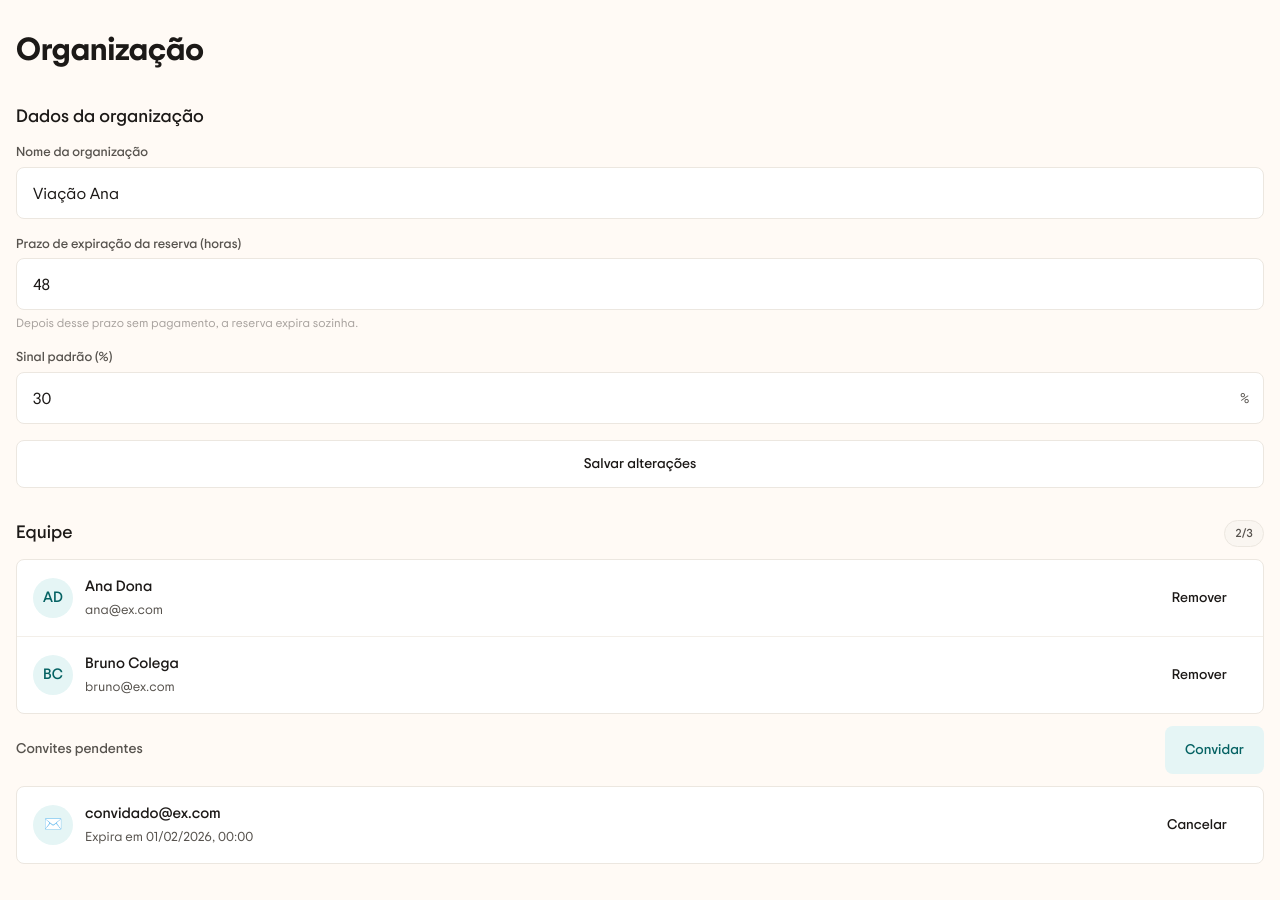
Test: OrganizacaoPage › remove um membro com sucesso
expect the text "Bruno Colega" is shown: met, box [85,656,179,671]
Click the button with aria-label "Remover Bruno Colega".
click(1199, 675)  # box [1152,651,1247,699]
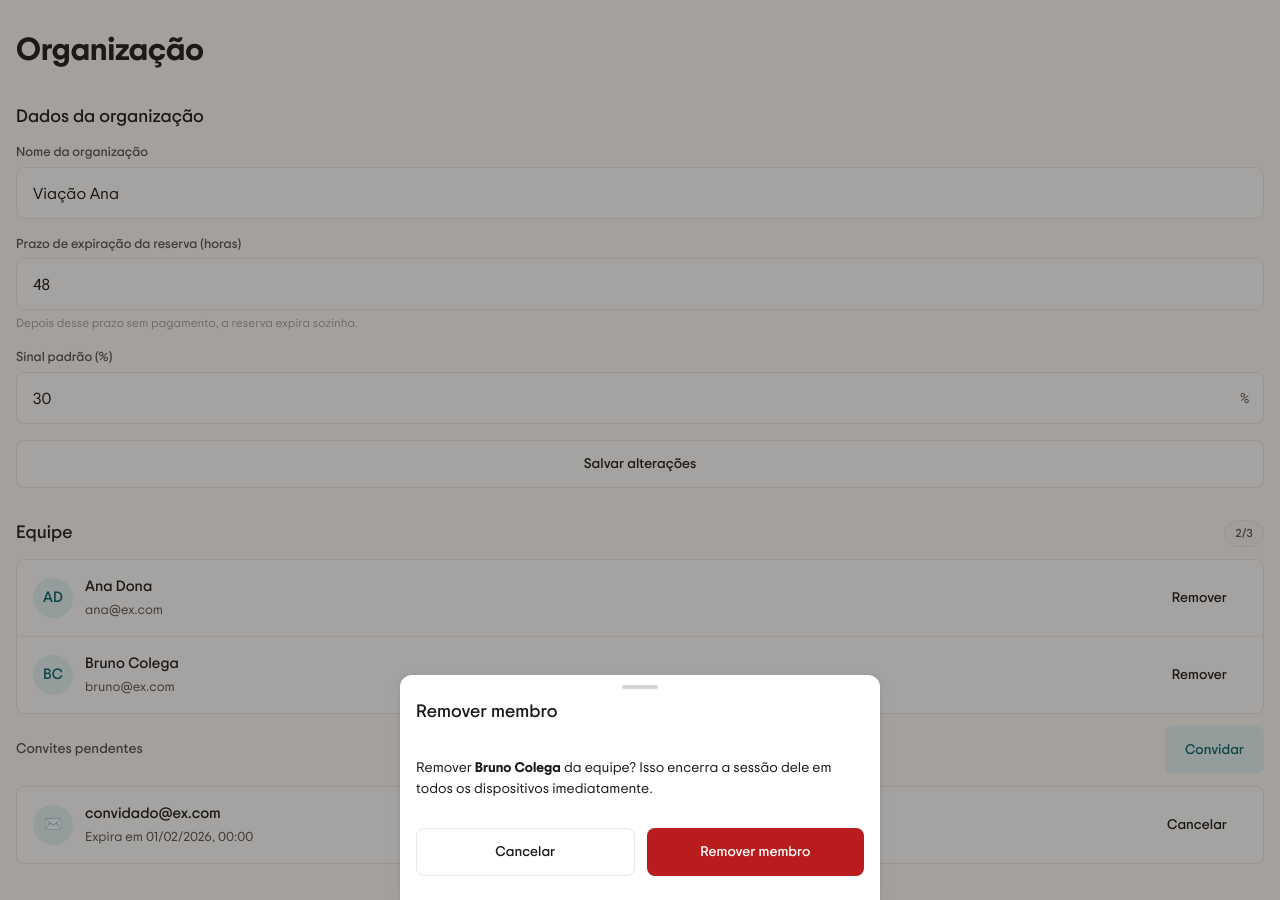
Click the button "Remover membro".
click(755, 852)  # box [647,828,864,876]
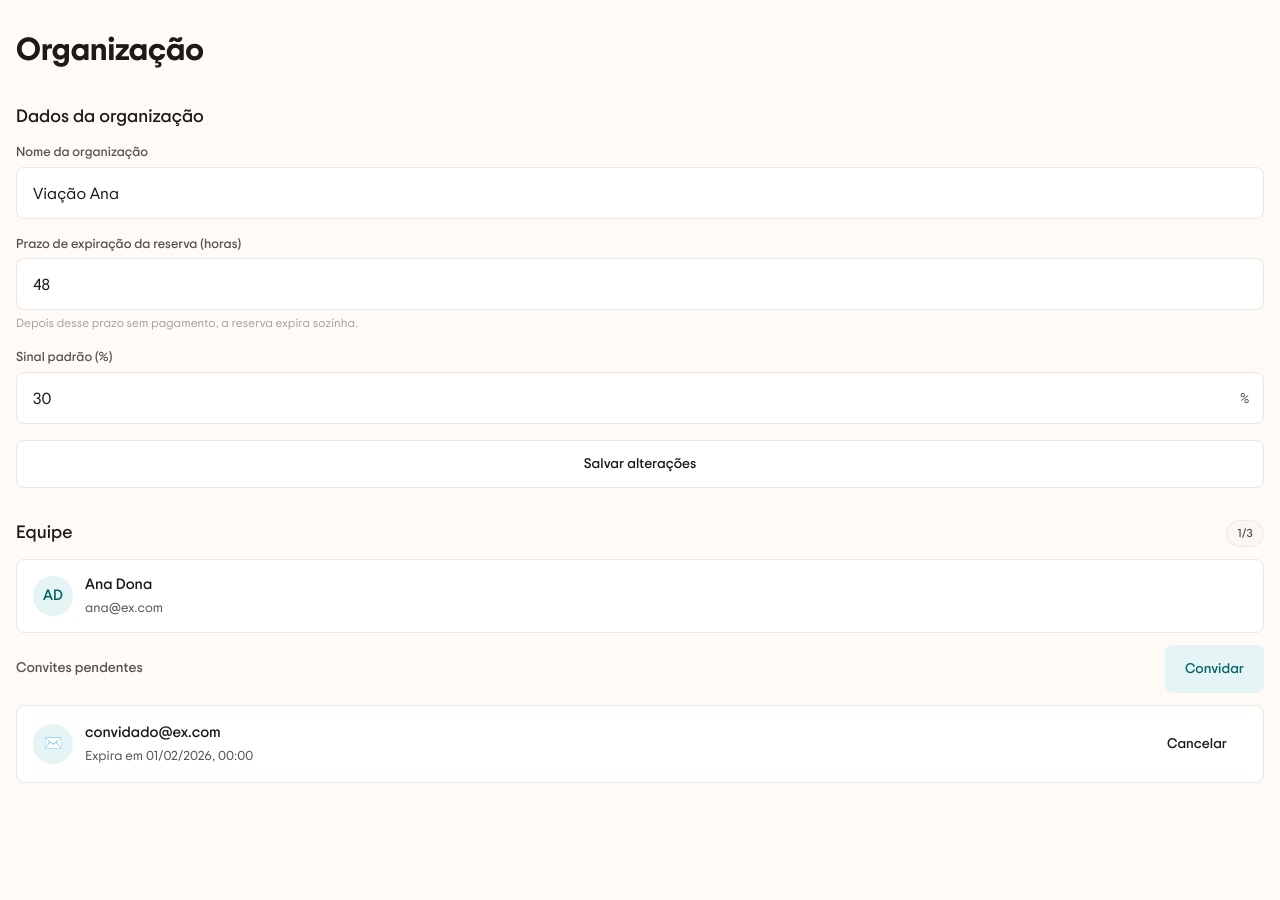
expect the text "Bruno Colega" is gone: met
